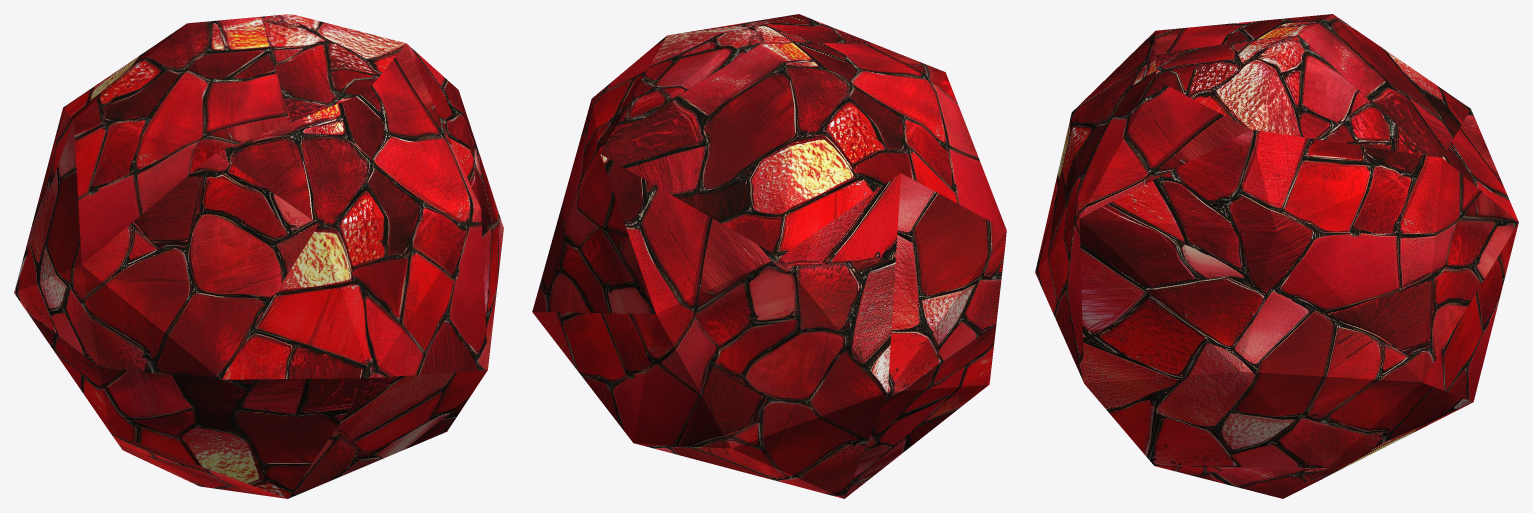
Rendered from star1Red.glb.
3 views of the same model, side by side, from view 1: azimuth 30°, elevation 25°; view 2: azimuth 150°, elevation 25°; view 3: azimuth 270°, elevation 25° (orthographic). The views are drawn at different scales.
Visible parts, largest first — view 1: star1; view 2: star1; view 3: star1.
Part boxes in pixels (x1=…): star1: x1=14, y1=14, x2=503, y2=498; star1: x1=532, y1=14, x2=1006, y2=498; star1: x1=1035, y1=14, x2=1518, y2=498.
Bounding box in the file's own units: 1 × 1 × 1.
1 material, 1 textured.
